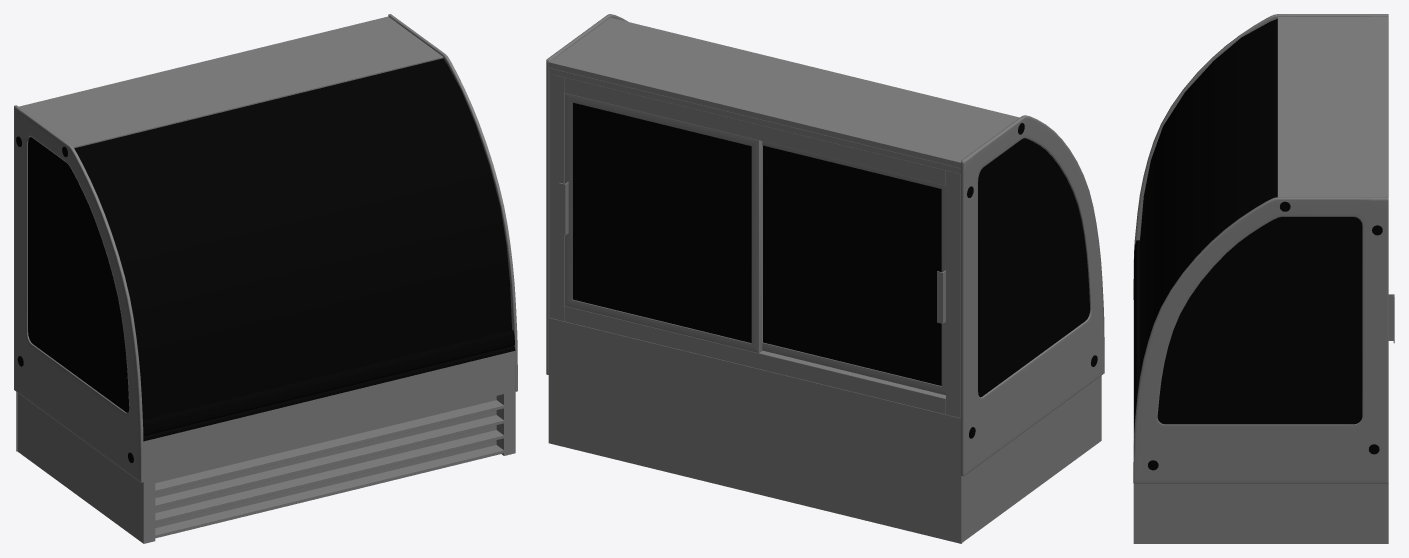
The model's file is display-shelf-with-curved-glass-and-cooling.fbx.
The picture shows the model from 3 angles, left to right: view 1: azimuth 30°, elevation 25°; view 2: azimuth 150°, elevation 25°; view 3: azimuth 270°, elevation 25°; orthographic projection. The views are drawn at different scales.
Visible parts, largest first — view 1: scdswcgac_front_glass_glass_Mat_0, scdswcgac_sides_metal_Mat_0, scdswcgac_top_outside_metal_Mat_0, scdswcgac_side_glass_glass_Mat_0, scdswcgac_base_metal_Mat_0, scdswcgac_front_lattice_metal_Mat_0, scdswcgac_bottom_shelf_front_metal_Mat_0; view 2: scdswcgac_rear_bottom_panel_metal_Mat_0, scdswcgac_rear_door_glass_r_glass_Mat_0, scdswcgac_rear_door_glass_l_glass_Mat_0, scdswcgac_top_outside_metal_Mat_0, scdswcgac_side_glass_glass_Mat_0, scdswcgac_rear_frame_metal_Mat_0, scdswcgac_sides_metal_Mat_0, scdswcgac_base_metal_Mat_0, scdswcgac_rear_door_frame_r_metal_Mat_0, scdswcgac_rear_door_frame_l_metal_Mat_0, scdswcgac_top_inside_metal_Mat_0; view 3: scdswcgac_side_glass_glass_Mat_0, scdswcgac_sides_metal_Mat_0, scdswcgac_front_glass_glass_Mat_0, scdswcgac_top_outside_metal_Mat_0, scdswcgac_base_metal_Mat_0, scdswcgac_bottom_shelf_front_metal_Mat_0, scdswcgac_side_caps_r_metal_Mat_0, scdswcgac_rear_door_frame_r_metal_Mat_0.
Part boxes in pixels (bbox=[...]): scdswcgac_front_glass_glass_Mat_0: bbox=[74, 58, 511, 419]; scdswcgac_sides_metal_Mat_0: bbox=[14, 14, 517, 482]; scdswcgac_top_outside_metal_Mat_0: bbox=[19, 16, 443, 148]; scdswcgac_side_glass_glass_Mat_0: bbox=[28, 137, 129, 412]; scdswcgac_base_metal_Mat_0: bbox=[17, 391, 515, 543]; scdswcgac_front_lattice_metal_Mat_0: bbox=[155, 400, 503, 538]; scdswcgac_bottom_shelf_front_metal_Mat_0: bbox=[143, 330, 515, 441]; scdswcgac_rear_bottom_panel_metal_Mat_0: bbox=[548, 318, 962, 543]; scdswcgac_rear_door_glass_r_glass_Mat_0: bbox=[572, 102, 751, 342]; scdswcgac_rear_door_glass_l_glass_Mat_0: bbox=[763, 145, 941, 385]; scdswcgac_top_outside_metal_Mat_0: bbox=[549, 17, 1019, 168]; scdswcgac_side_glass_glass_Mat_0: bbox=[978, 138, 1090, 397]; scdswcgac_rear_frame_metal_Mat_0: bbox=[549, 73, 960, 418]; scdswcgac_sides_metal_Mat_0: bbox=[546, 14, 1104, 476]; scdswcgac_base_metal_Mat_0: bbox=[962, 375, 1101, 542]; scdswcgac_rear_door_frame_r_metal_Mat_0: bbox=[559, 93, 762, 352]; scdswcgac_rear_door_frame_l_metal_Mat_0: bbox=[762, 141, 945, 395]; scdswcgac_top_inside_metal_Mat_0: bbox=[549, 68, 960, 173]; scdswcgac_side_glass_glass_Mat_0: bbox=[1157, 217, 1362, 424]; scdswcgac_sides_metal_Mat_0: bbox=[1133, 14, 1388, 483]; scdswcgac_front_glass_glass_Mat_0: bbox=[1140, 18, 1277, 375]; scdswcgac_top_outside_metal_Mat_0: bbox=[1277, 17, 1388, 196]; scdswcgac_base_metal_Mat_0: bbox=[1133, 483, 1386, 543]; scdswcgac_bottom_shelf_front_metal_Mat_0: bbox=[1134, 240, 1139, 432]; scdswcgac_side_caps_r_metal_Mat_0: bbox=[1148, 201, 1382, 470]; scdswcgac_rear_door_frame_r_metal_Mat_0: bbox=[1388, 294, 1394, 343].
Bounding box in the file's own units: 137 × 120 × 81.94.
2 materials, 2 textured.
